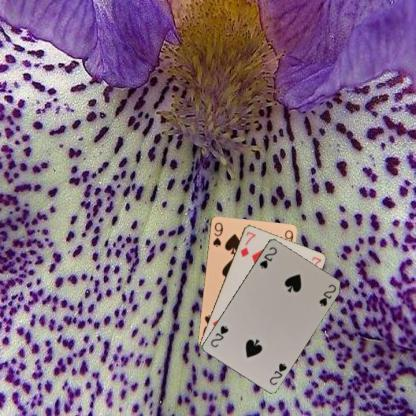2s: (256, 244, 278, 270), (267, 360, 288, 386)
7d: (238, 228, 256, 258)
9s: (210, 219, 224, 248)
